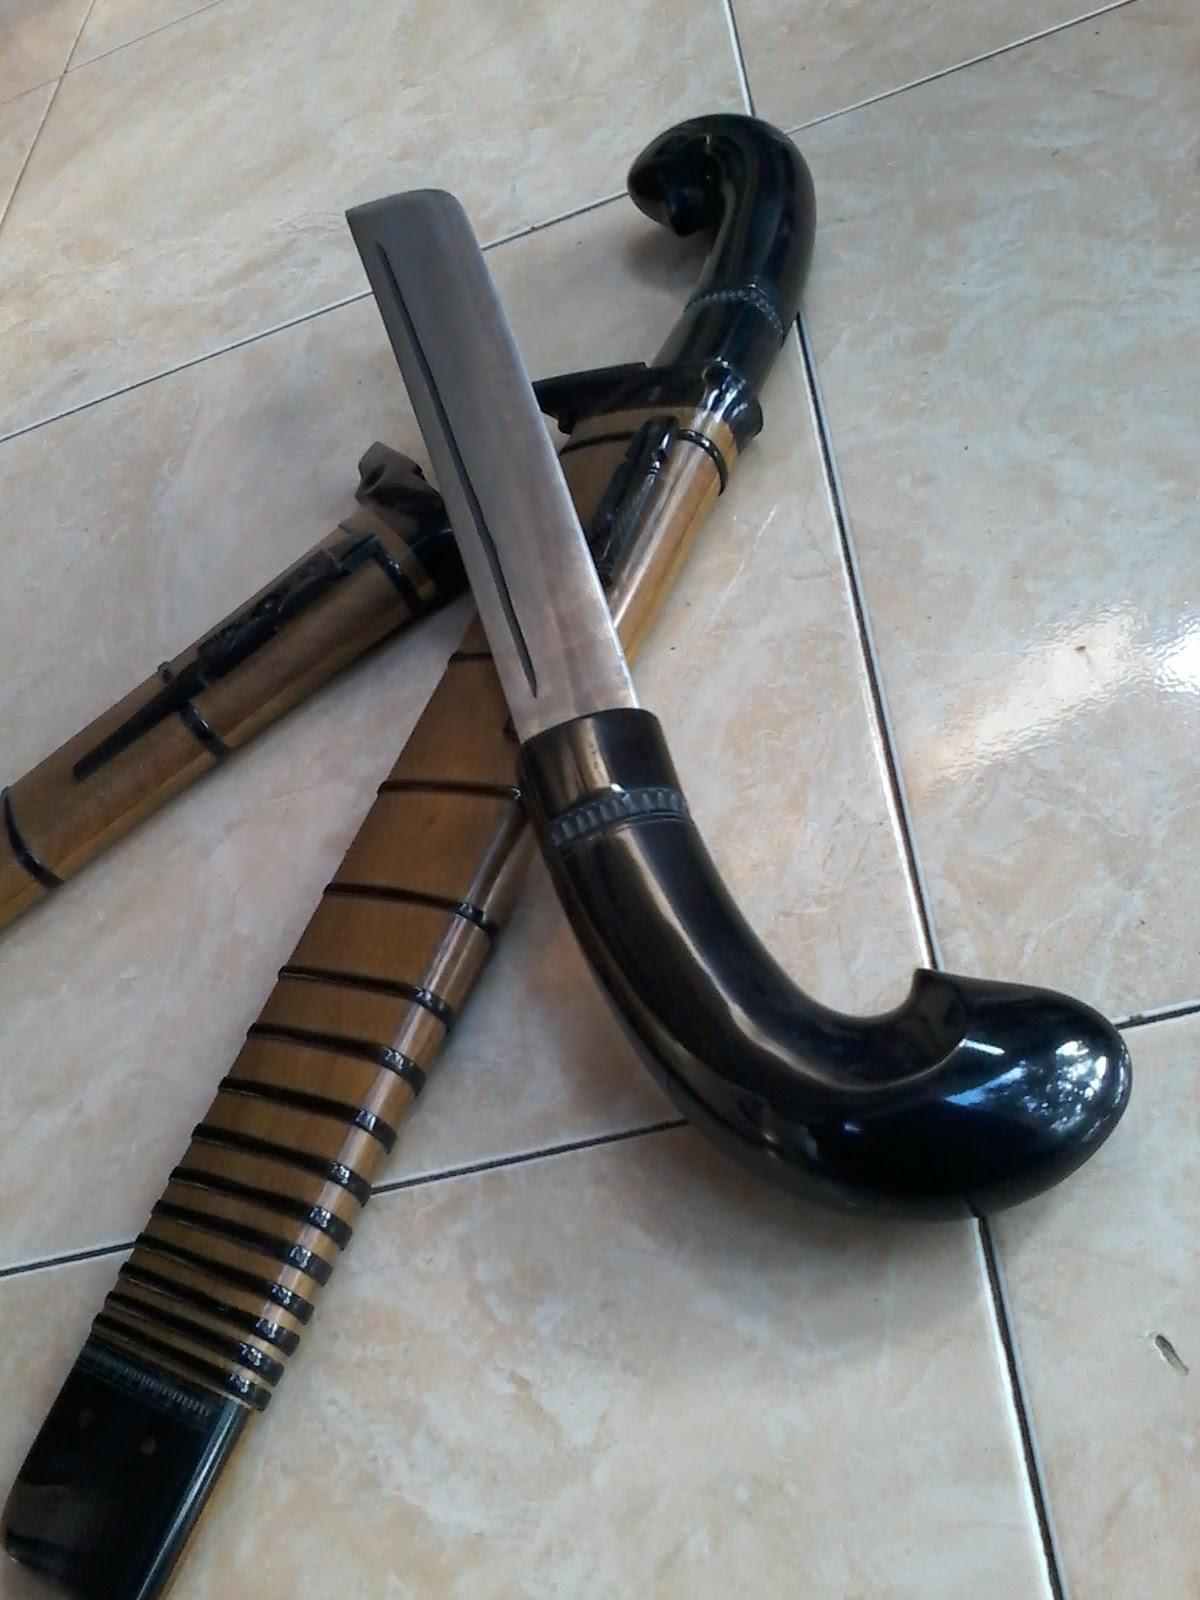espada: (0, 57, 861, 1599), (247, 176, 1200, 1237)
